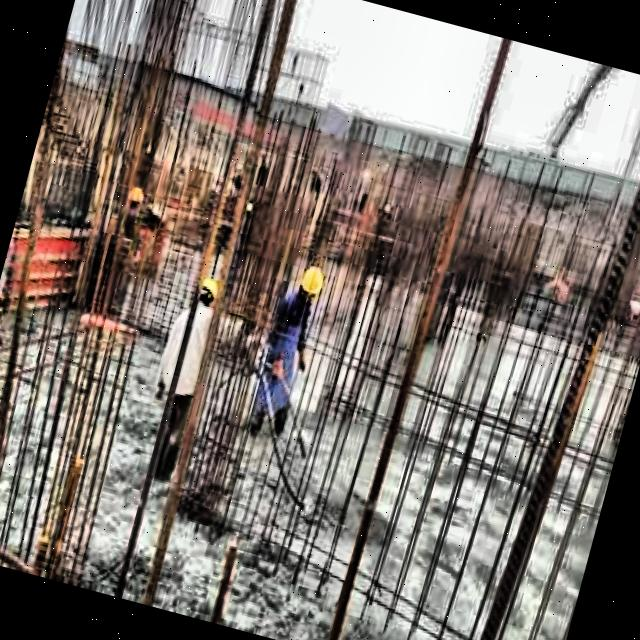helmet: (294, 260, 332, 308), (188, 269, 226, 309), (118, 178, 146, 214)
